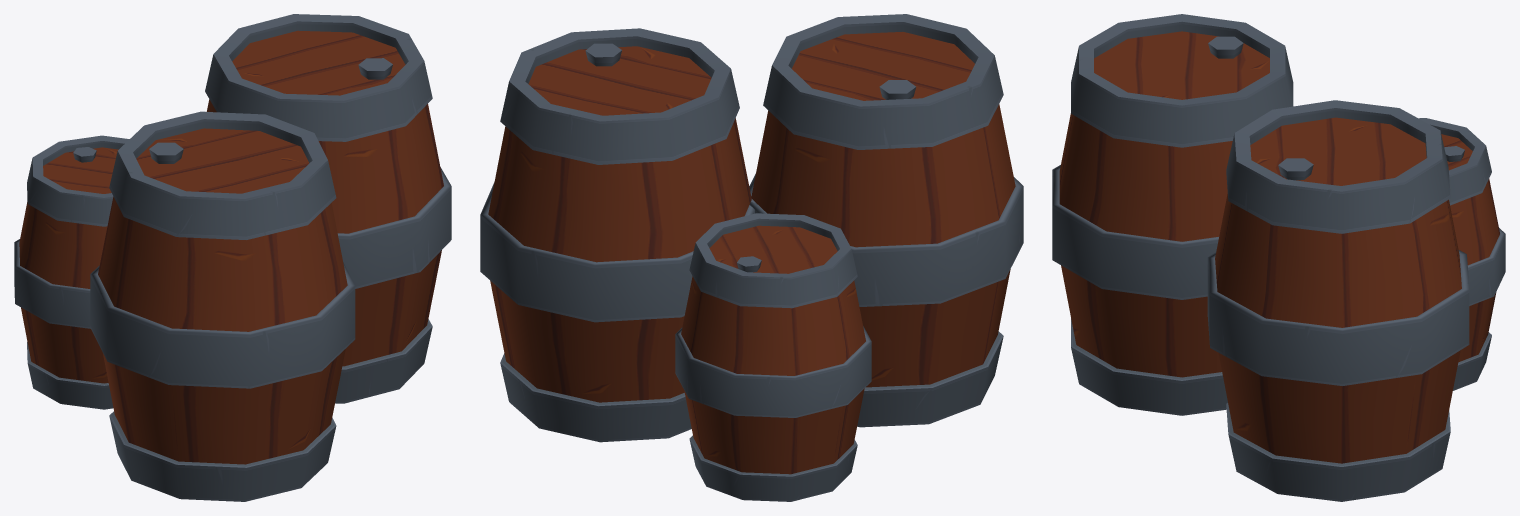
File: BarrelCluster1.fbx
3 views of the same model, side by side, from view 1: azimuth 30°, elevation 25°; view 2: azimuth 150°, elevation 25°; view 3: azimuth 270°, elevation 25° (orthographic). The views are drawn at different scales.
Visible parts, largest first — view 1: BarrelCluster1; view 2: BarrelCluster1; view 3: BarrelCluster1.
Boxes of the visible parts, x1,y1,x2,y2 form: BarrelCluster1: (14, 14, 451, 501); BarrelCluster1: (480, 14, 1023, 501); BarrelCluster1: (1052, 14, 1505, 501).
Bounding box in the file's own units: 206 × 148 × 196.
